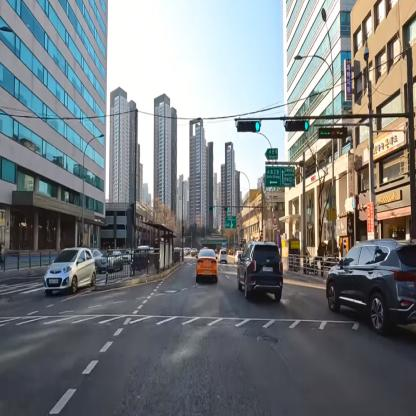Green: (237, 118, 260, 134), (285, 119, 309, 134), (223, 206, 230, 211), (210, 206, 216, 211)
